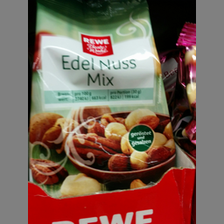nuts: (29, 2, 177, 196)
